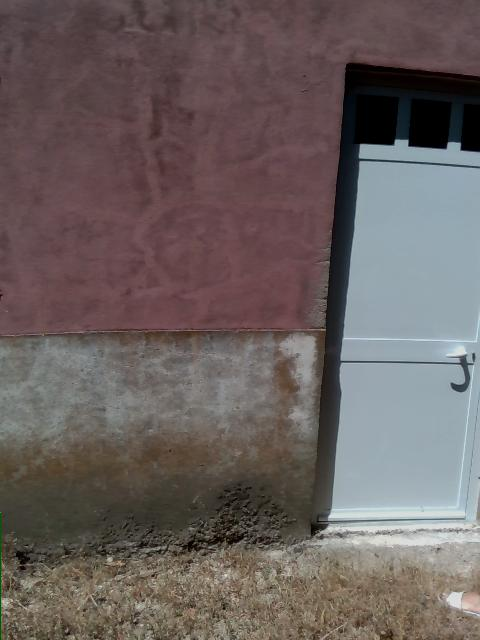closed_door: (312, 63, 479, 521)
